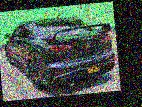car: (0, 7, 118, 96)
